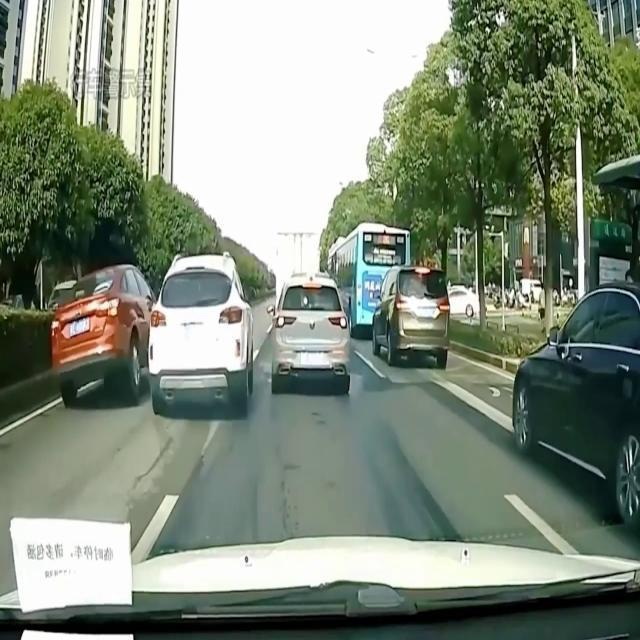accident: (50, 254, 252, 412)
non-accident: (270, 222, 448, 396)
